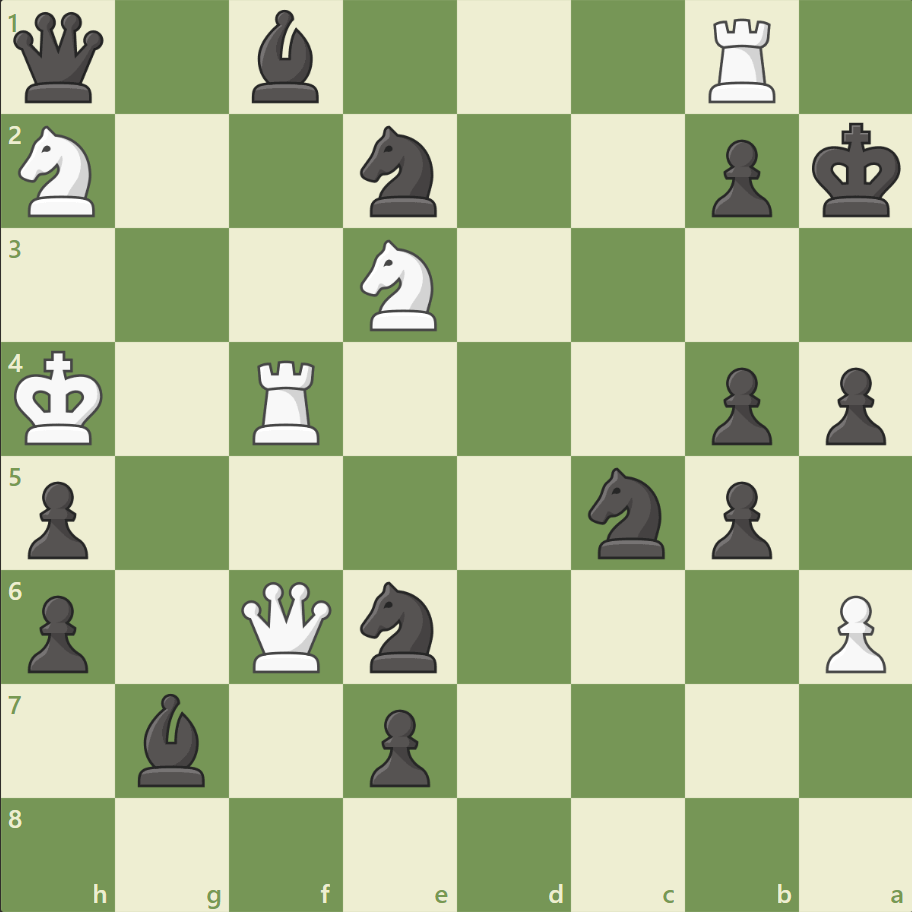K: (11, 344, 111, 452)
N: (351, 234, 449, 337), (11, 121, 108, 223)
P: (815, 586, 889, 677)
Q: (237, 576, 336, 676)
R: (246, 352, 329, 449), (700, 12, 783, 109)
b: (131, 687, 215, 790), (244, 6, 328, 109)
k: (806, 117, 906, 225)
n: (351, 575, 449, 677), (351, 121, 449, 223), (579, 461, 676, 564)
p: (20, 586, 95, 677), (701, 473, 776, 564), (20, 473, 95, 564), (701, 359, 776, 450), (701, 132, 776, 223), (361, 700, 435, 791), (815, 359, 889, 450)
q: (10, 9, 109, 108)
